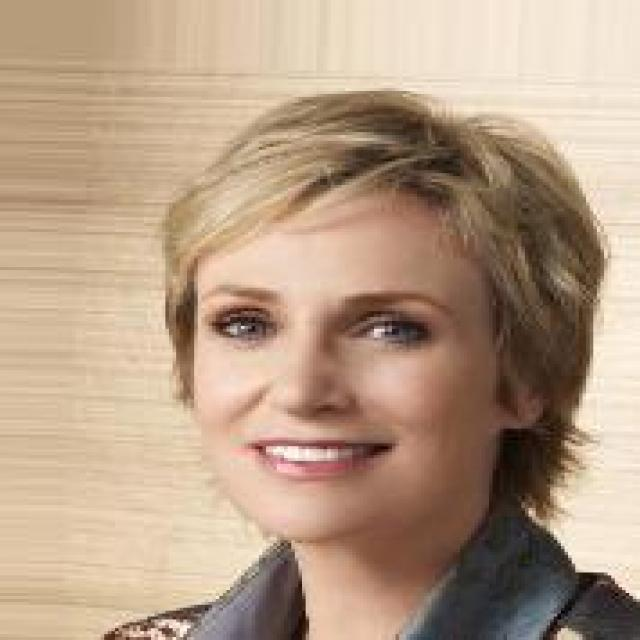nomask: (137, 97, 600, 552)
